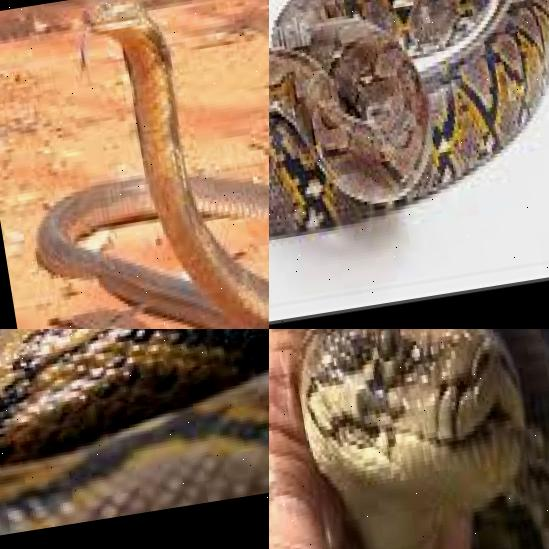snake: (0, 0, 269, 329), (269, 0, 549, 263), (0, 329, 269, 549), (277, 329, 543, 549)
